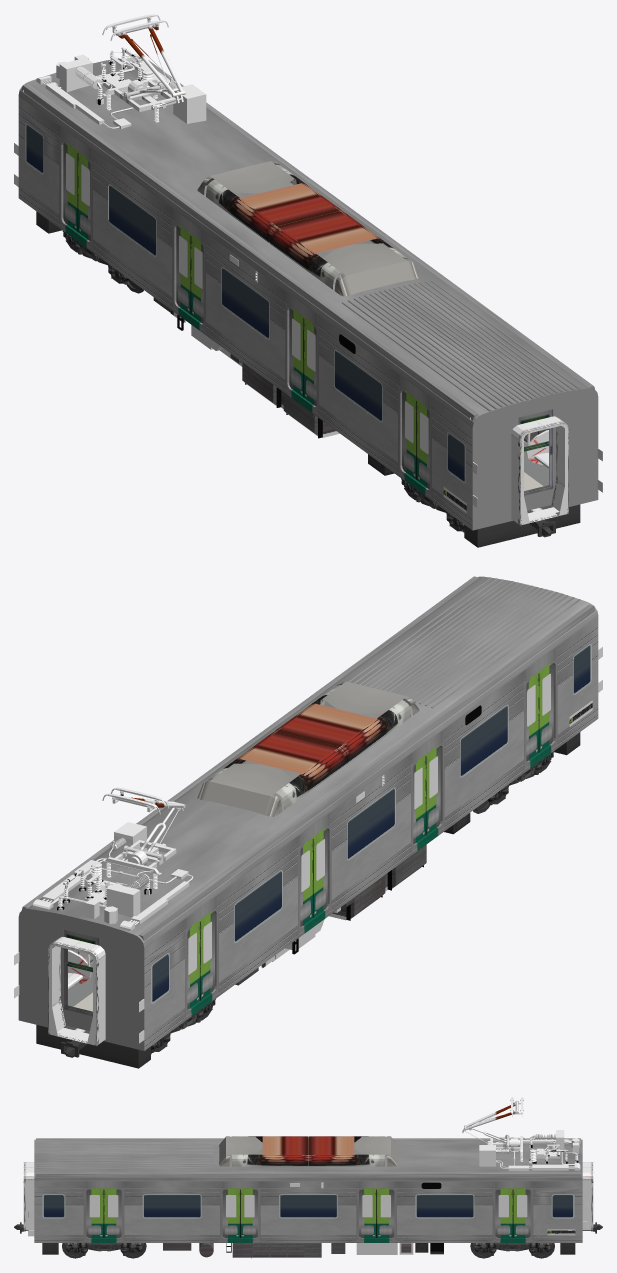
File: 391000_panto.obj
The picture shows the model from 3 angles, top to bottom: view 1: azimuth 30°, elevation 25°; view 2: azimuth 150°, elevation 25°; view 3: azimuth 270°, elevation 25°; orthographic projection. The views are drawn at different scales.
Parts seen in each view (by area): view 1: p_jibung, p_side_1, p_aircon, p_back, p_window, p_door_RB, p_pan_side, p_habu, p_door_RF, p_doorside_1, p_obj1, p_Group1 (+2 smaller); view 2: p_jibung, p_side_1, p_aircon, p_back, p_window, p_pan_side, p_door_RF, p_habu, p_door_RB, p_doorside_1, p_obj1, p_Group1 (+3 smaller); view 3: p_side_1, p_jibung, p_window, p_aircon, p_door_LF, p_door_LB, p_habu, p_doorside_1, p_pan_side, p_Group1, p_obj1, p_pan_up_body (+1 smaller).
Boxes of the visible parts, <box> form: p_jibung: <box>18,56,594,427</box>; p_side_1: <box>18,96,472,530</box>; p_aircon: <box>197,161,419,296</box>; p_back: <box>472,388,598,530</box>; p_window: <box>25,123,465,483</box>; p_door_RB: <box>63,143,416,479</box>; p_pan_side: <box>36,47,206,128</box>; p_habu: <box>36,211,580,547</box>; p_door_RF: <box>77,153,429,488</box>; p_doorside_1: <box>59,137,431,497</box>; p_obj1: <box>511,416,568,525</box>; p_Group1: <box>62,231,555,537</box>; p_jibung: <box>21,576,598,948</box>; p_side_1: <box>144,616,598,1050</box>; p_aircon: <box>197,681,419,816</box>; p_back: <box>18,909,144,1050</box>; p_window: <box>151,644,591,1003</box>; p_pan_side: <box>32,822,193,931</box>; p_door_RF: <box>200,663,553,1000</box>; p_habu: <box>36,732,580,1068</box>; p_door_RB: <box>187,674,538,1009</box>; p_doorside_1: <box>185,658,557,1017</box>; p_obj1: <box>48,937,105,1045</box>; p_Group1: <box>61,751,554,1057</box>; p_side_1: <box>34,1181,582,1242</box>; p_jibung: <box>34,1138,582,1181</box>; p_window: <box>42,1183,574,1218</box>; p_aircon: <box>219,1136,397,1166</box>; p_door_LF: <box>86,1189,513,1237</box>; p_door_LB: <box>103,1189,530,1237</box>; p_habu: <box>42,1243,575,1258</box>; p_doorside_1: <box>83,1188,533,1241</box>; p_pan_side: <box>479,1130,580,1170</box>; p_Group1: <box>14,1222,602,1258</box>; p_obj1: <box>23,1162,593,1230</box>; p_pan_up_body: <box>462,1100,522,1143</box>.
Size of the model in its own units: 3.2 by 5.74 by 20.95.
29 materials, 29 textured.
